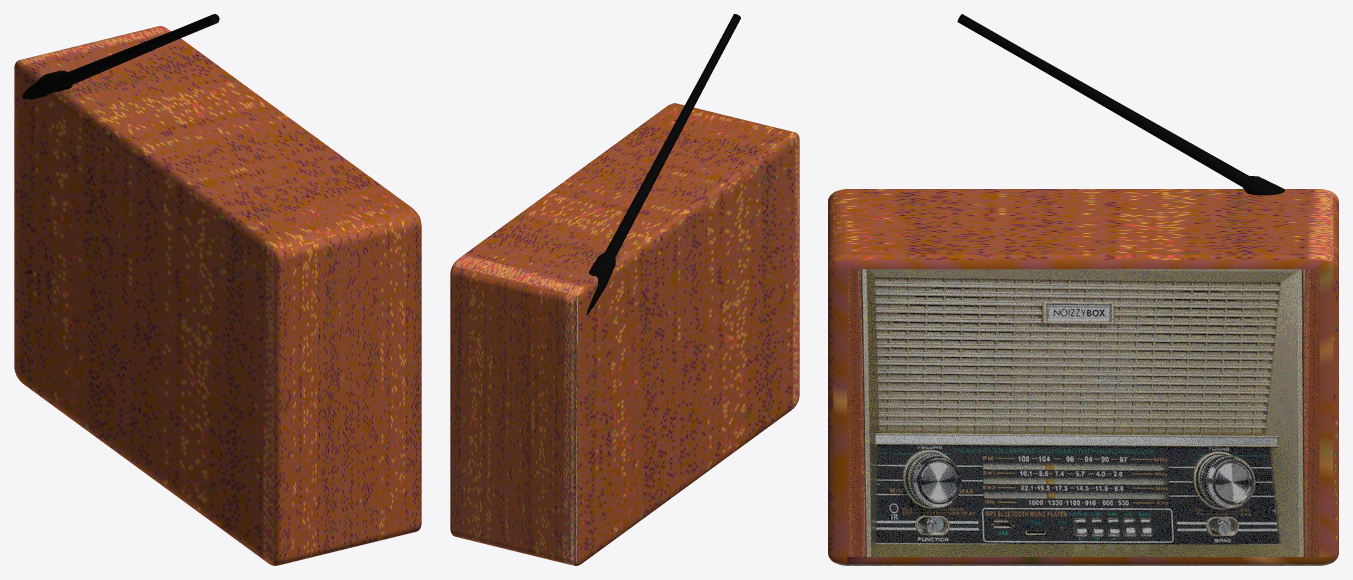
File: radiowrap.fbx
The picture shows the model from 3 angles, left to right: view 1: azimuth 30°, elevation 25°; view 2: azimuth 150°, elevation 25°; view 3: azimuth 270°, elevation 25°; orthographic projection. The views are drawn at different scales.
Parts seen in each view (by area): view 1: Cube, Cylinder; view 2: Cube, Cylinder; view 3: Cube, Cylinder.
Part boxes in pixels (x1,y1,x2,y2): Cube: (14, 26, 421, 565); Cylinder: (22, 14, 219, 99); Cube: (450, 103, 799, 565); Cylinder: (586, 14, 740, 314); Cube: (828, 189, 1338, 565); Cylinder: (957, 14, 1284, 195).
Bounding box in the file's own units: 48.19 × 151 × 144.
